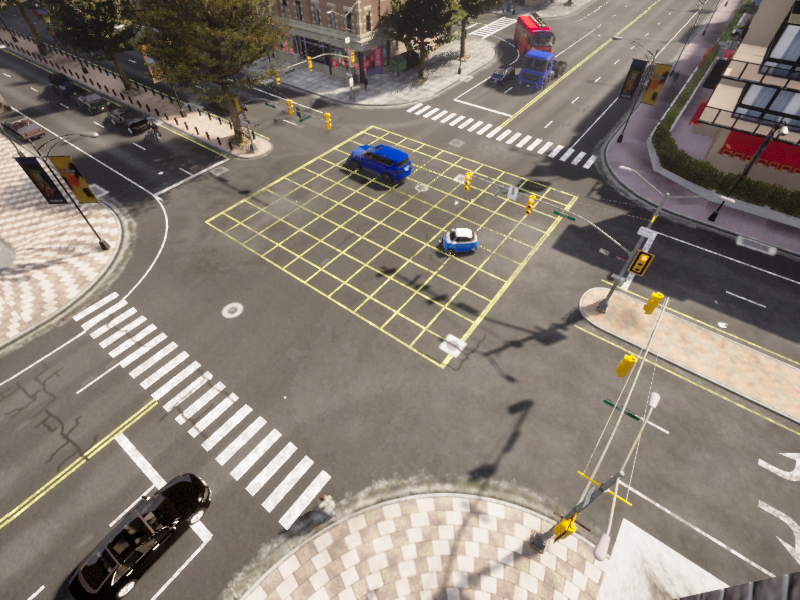vehicle: (342, 132, 413, 187), (100, 99, 157, 138), (198, 85, 243, 115), (438, 223, 476, 255), (144, 118, 171, 145)
